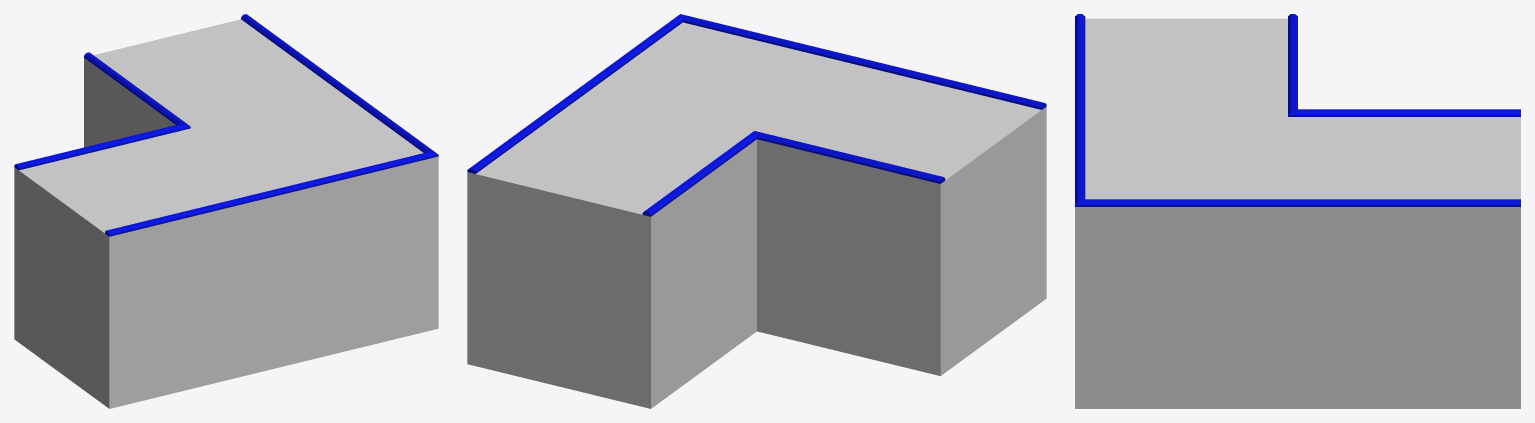
Rendered from Path (1).fbx.
The picture shows the model from 3 angles, left to right: view 1: azimuth 30°, elevation 25°; view 2: azimuth 150°, elevation 25°; view 3: azimuth 270°, elevation 25°; orthographic projection. The views are drawn at different scales.
Visible parts, largest first — view 1: Straight, Corner, Straight.001; view 2: Straight, Straight.001, Corner; view 3: Straight.001, Corner, Straight.
Boxes of the visible parts, <box> form: Straight: <box>14,124,273,408</box>; Corner: <box>180,83,438,368</box>; Straight.001: <box>84,14,340,147</box>; Straight: <box>757,58,1046,375</box>; Straight.001: <box>467,90,756,408</box>; Corner: <box>576,14,861,136</box>; Straight.001: <box>1298,109,1520,408</box>; Corner: <box>1075,108,1297,408</box>; Straight: <box>1075,14,1297,112</box>.
Bounding box in the file's own units: 22 × 11.25 × 22.
